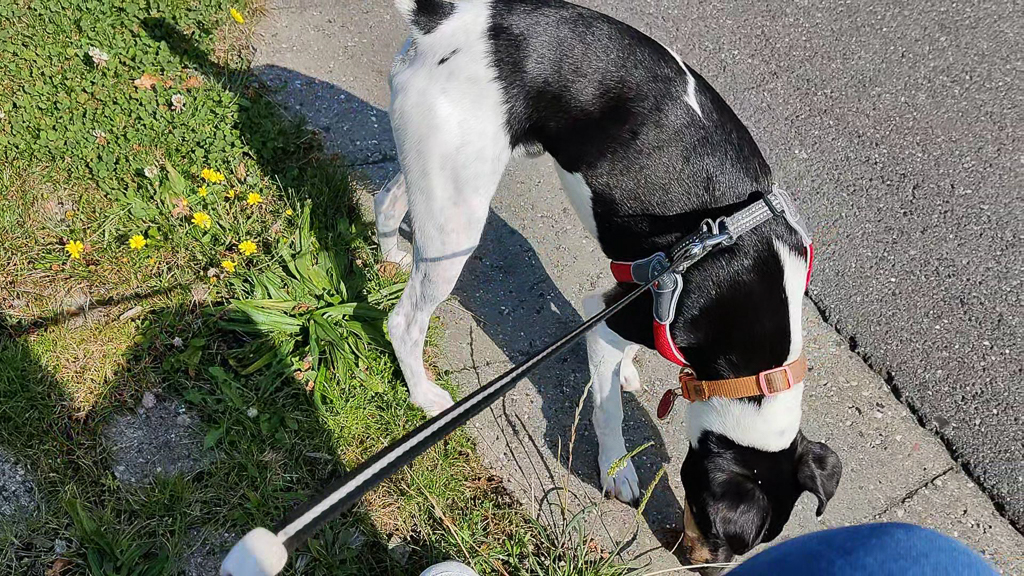Dog: (334, 0, 882, 576)
Humanoid: (678, 502, 1013, 576)
